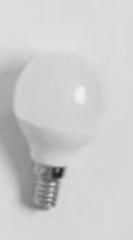lightbulb: (11, 51, 108, 208)
